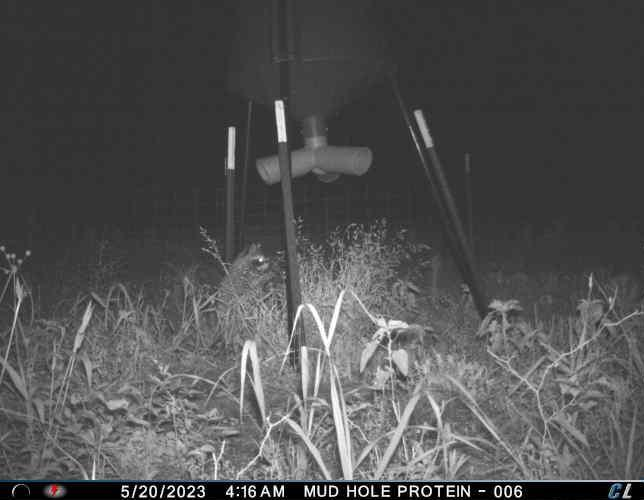Raccoon: (226, 239, 270, 282)
